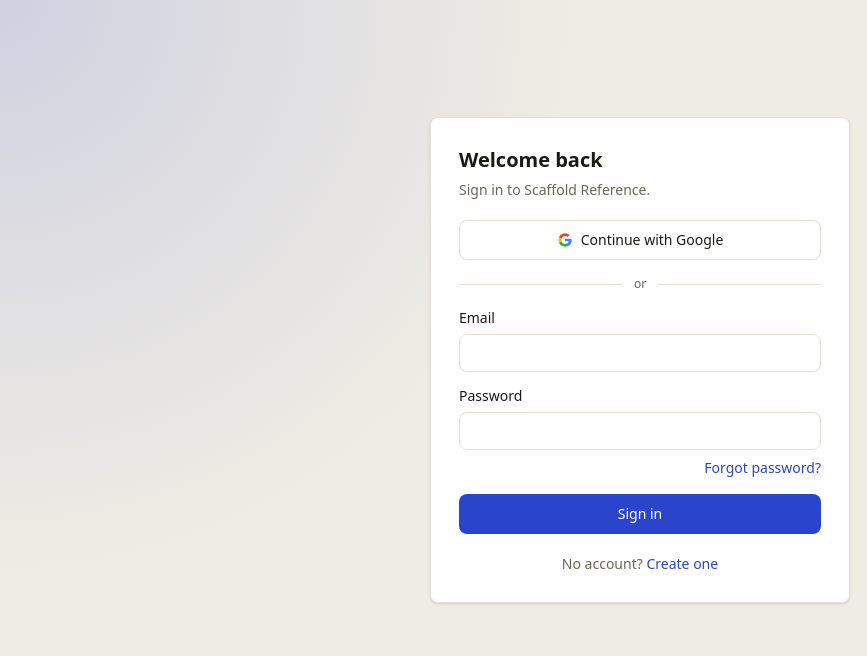
public auth routes › navigates between sign-in and sign-up from the account prompts
The width and height of the screenshot is (867, 656).
Click the button "Create one" at (682, 564), box [646,554,718,574]
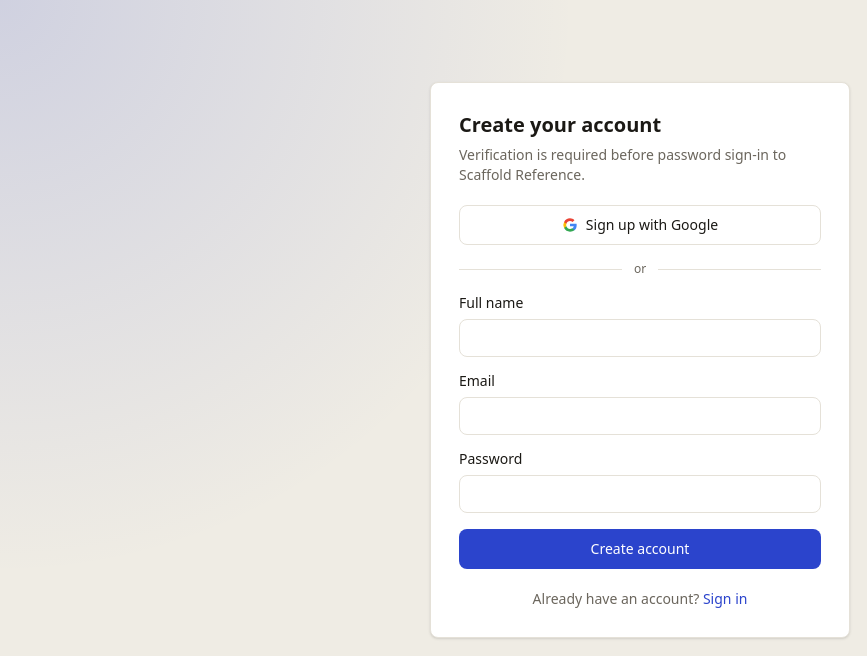
Expected: the heading "Create your account" is shown, [459,111,661,138]
Click the button "Sign in" at (725, 599), box [703,589,747,609]
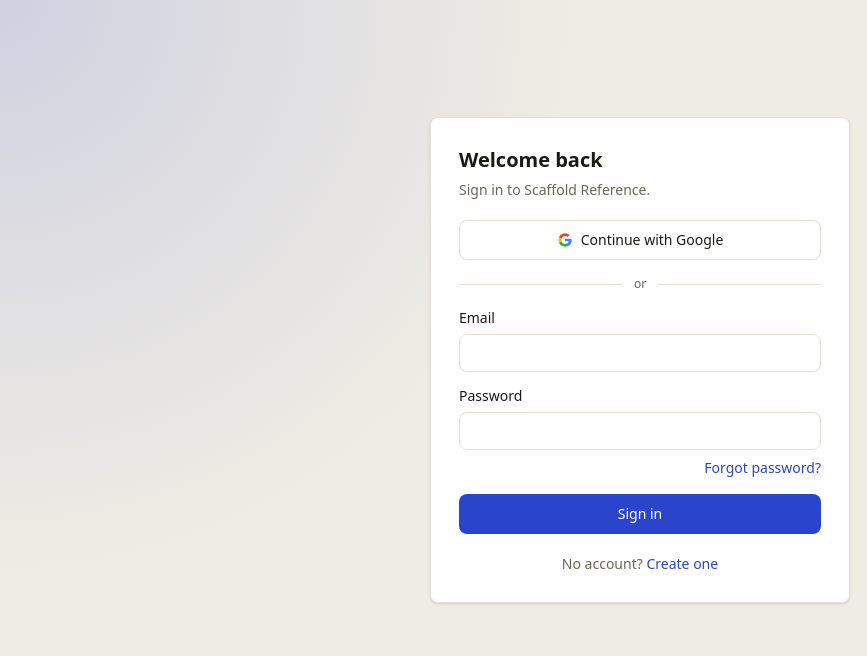
Expected: the heading "Welcome back" is shown, [459,146,603,173]
